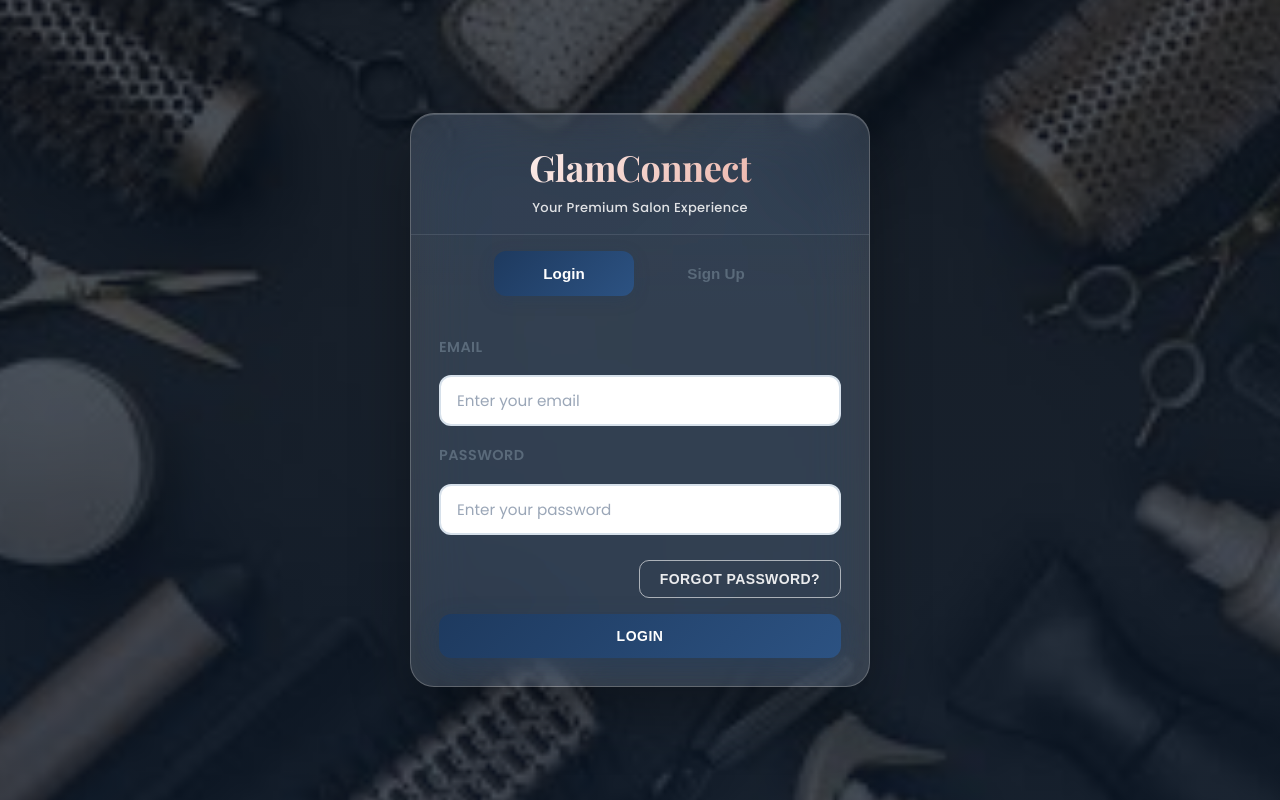
Test: Auth screen › Signup form › shows signup form when Sign Up tab is clicked
What coordinates should you click on to do the following:
click the button "Sign Up"
I would click on:
 (716, 274)
Its box is [646,251,786,296].
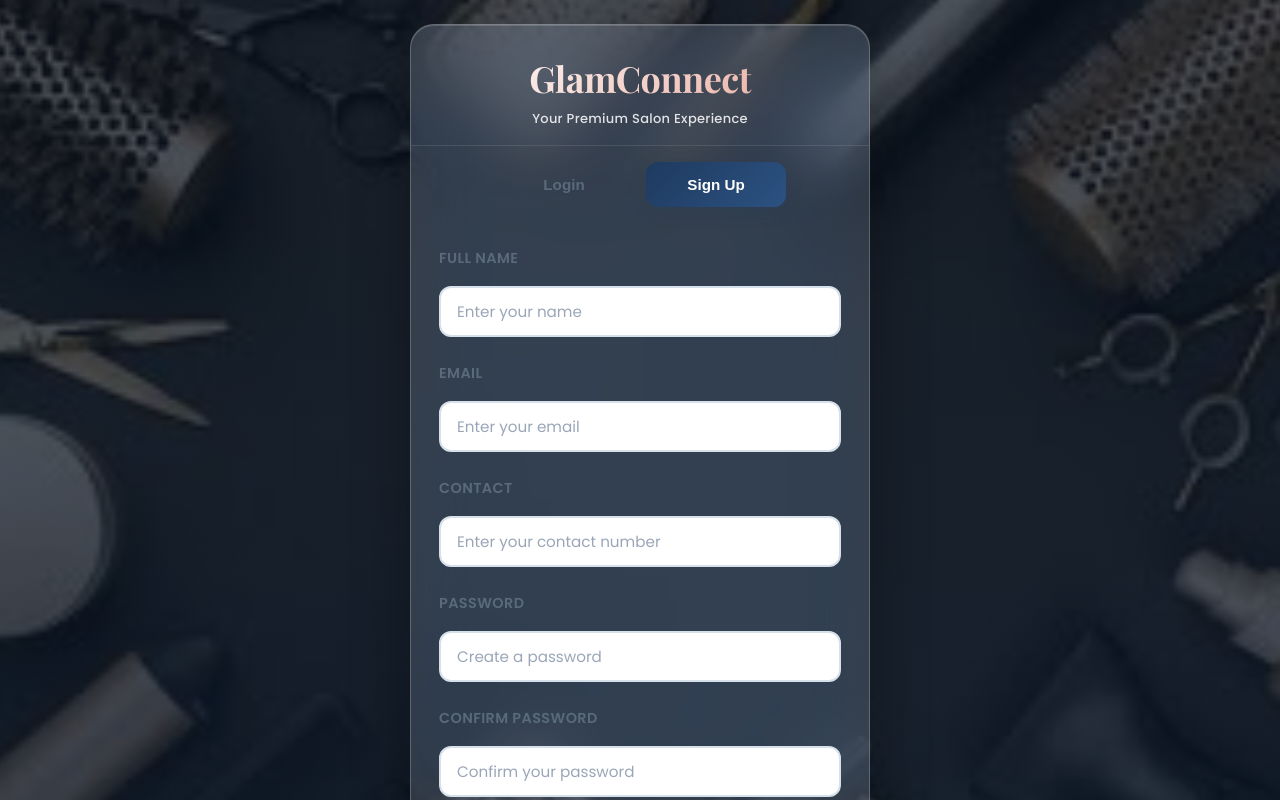
Check: the field with placeholder "Enter your name" is shown, box [439,286,841,337]
